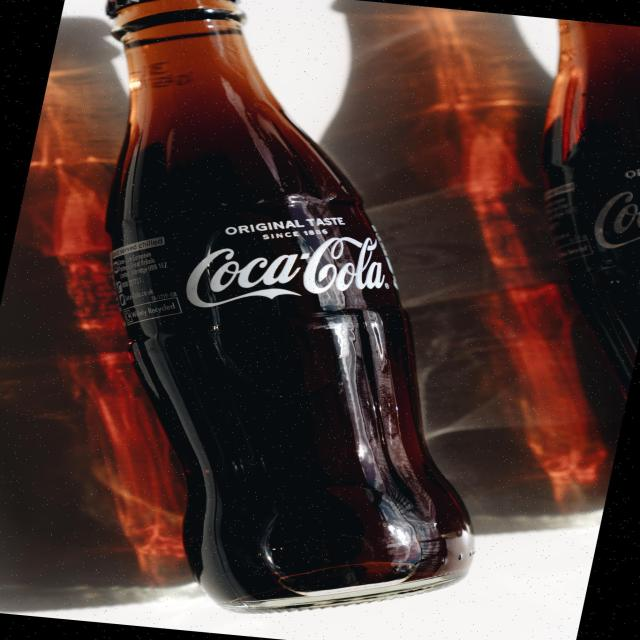coca-cola: (0, 0, 595, 637)
